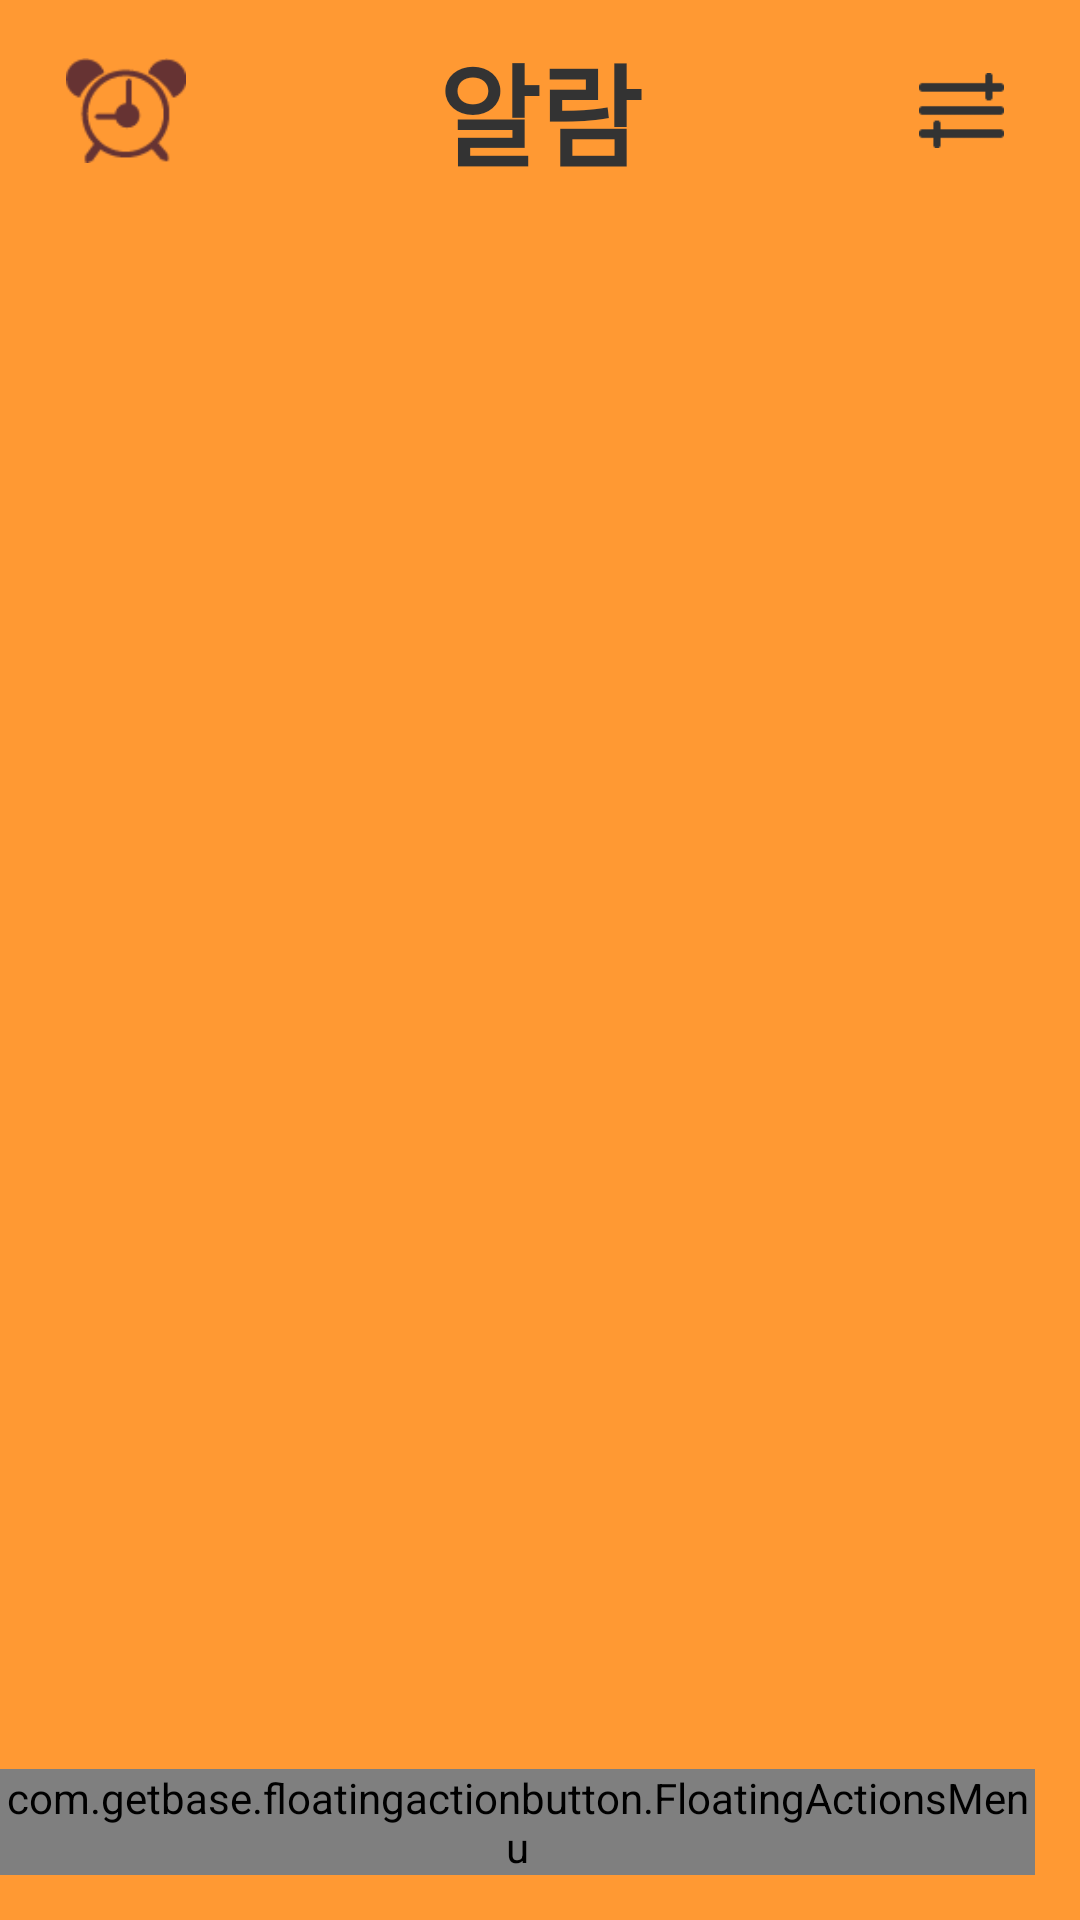

Screen size 1080px×1920px. Icon name, then its box in pixels as (x1, y1, x2, y2):
mini alarm: (66, 58, 186, 163)
setting: (919, 73, 1004, 148)
